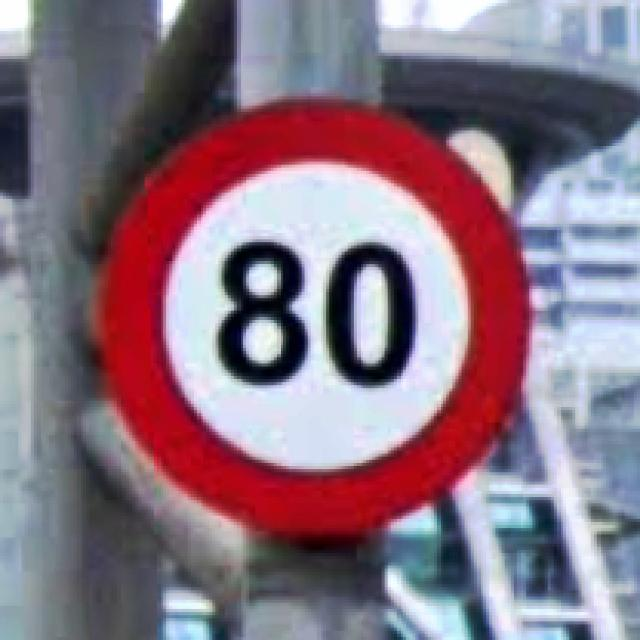max80: (90, 93, 536, 547)
